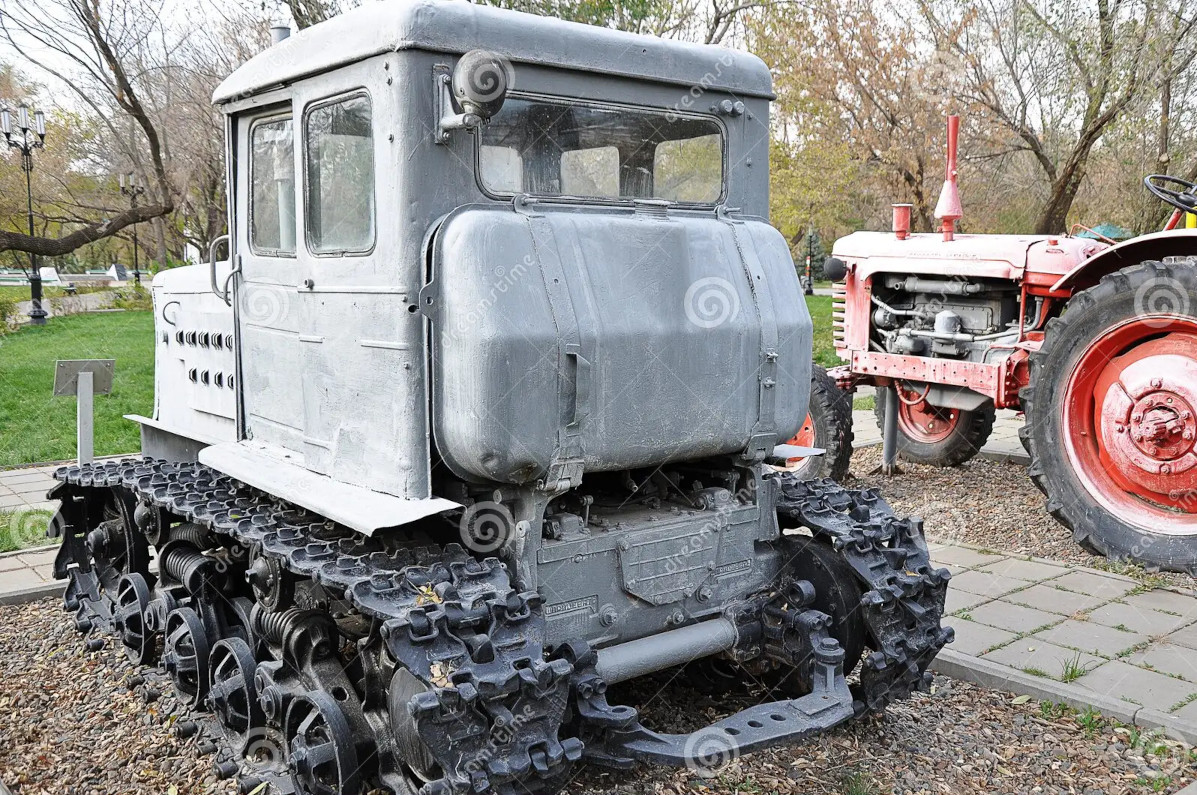tractor: (43, 0, 954, 793)
